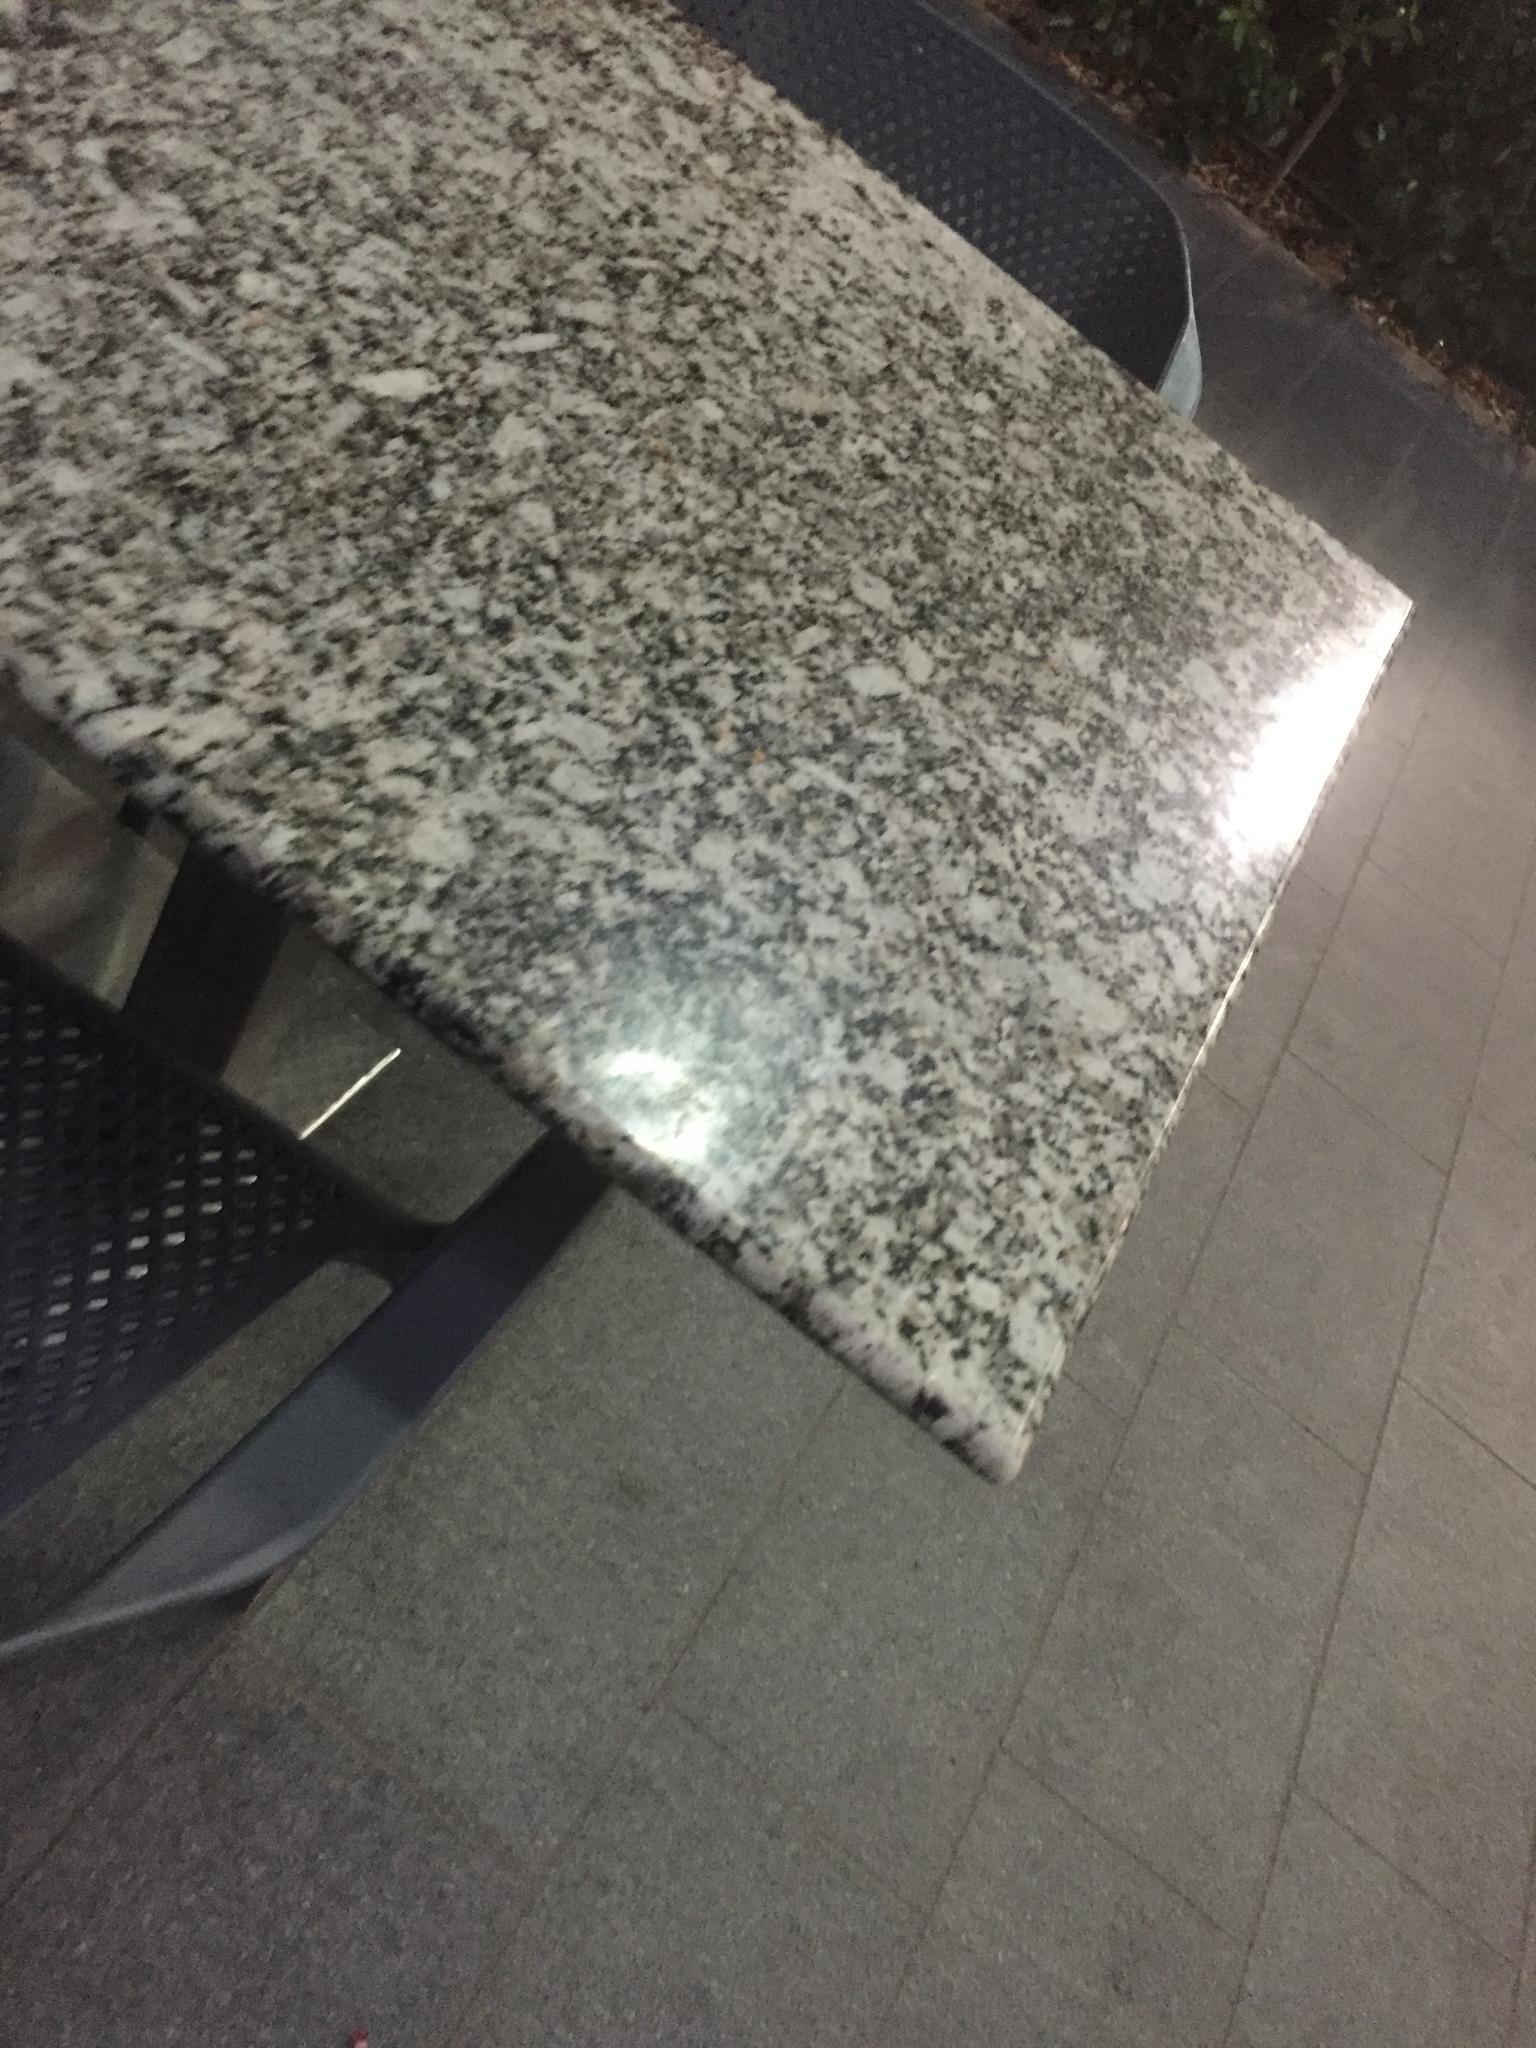chair: (0, 861, 747, 1725), (458, 8, 1349, 671)
